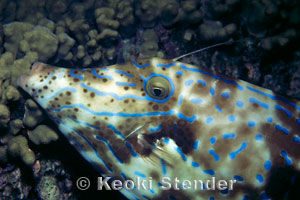Aluterus_scriptus: (19, 53, 294, 200)
